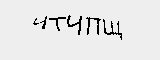П: (84, 15, 102, 39)
Т: (49, 13, 66, 32)
Ч: (66, 14, 83, 36), (31, 15, 50, 30)
Щ: (103, 19, 125, 40)
